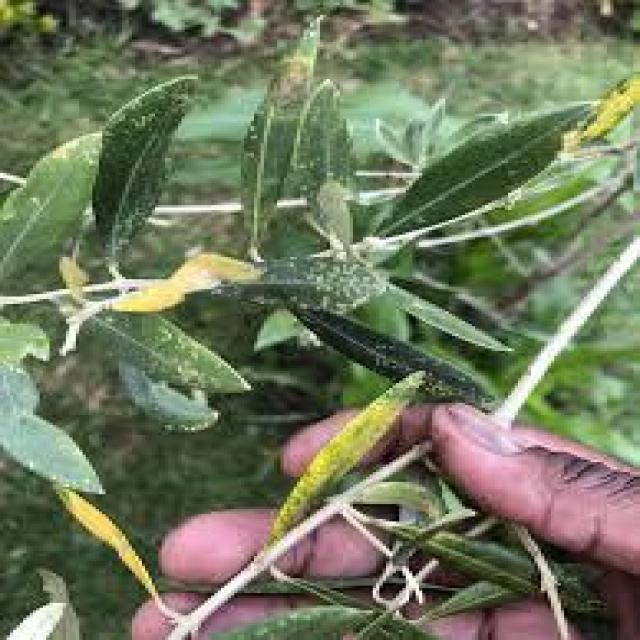OlivePeacockSpot: (264, 371, 426, 546), (244, 14, 320, 260)
